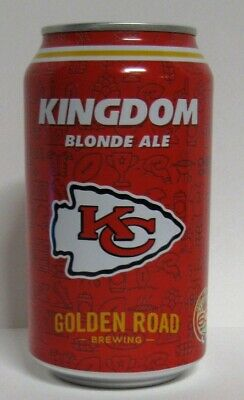beer can: (27, 23, 209, 389)
